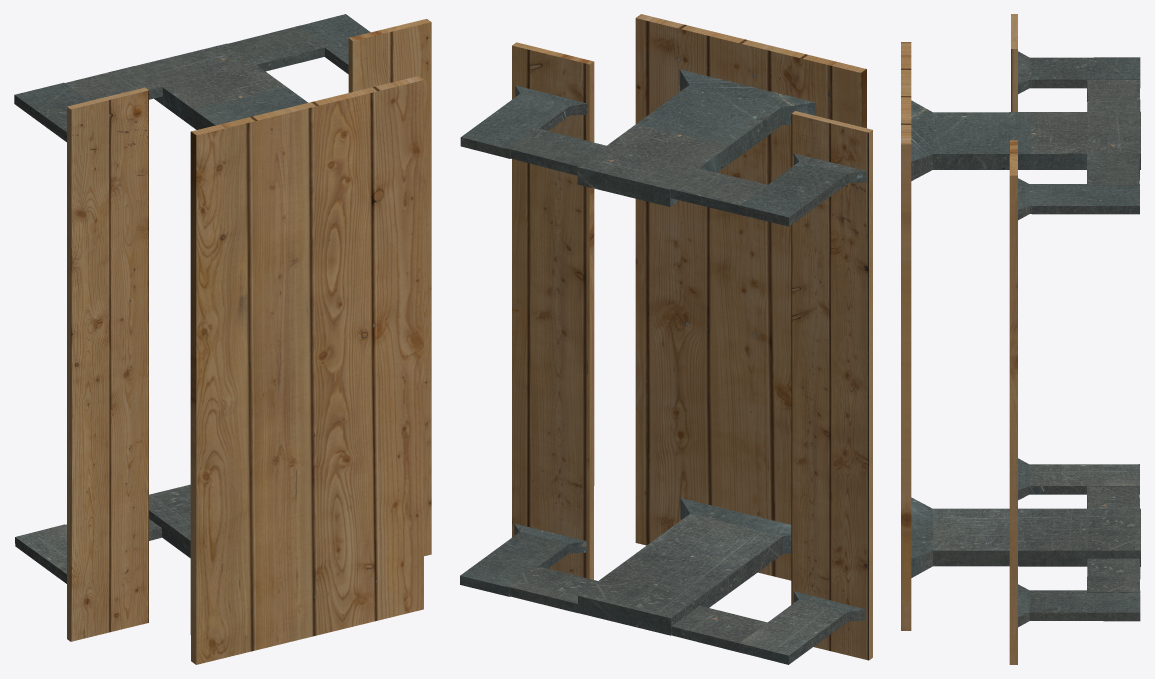
Rendered from Tyler_Tableblend.obj.
3 renders of one model, left to right at view 1: azimuth 30°, elevation 25°; view 2: azimuth 150°, elevation 25°; view 3: azimuth 270°, elevation 25°, orthographic. The views are drawn at different scales.
Parts seen in each view (by area): view 1: Cube.001_Cube.002, Cube.003_Cube.004; view 2: Cube.001_Cube.002, Cube.003_Cube.004; view 3: Cube.003_Cube.004, Cube.001_Cube.002.
Boxes of the visible parts, x1,y1,x2,y2 form: Cube.001_Cube.002: [67, 19, 431, 664]; Cube.003_Cube.004: [14, 14, 370, 583]; Cube.001_Cube.002: [512, 14, 872, 660]; Cube.003_Cube.004: [460, 69, 866, 664]; Cube.003_Cube.004: [911, 51, 1140, 627]; Cube.001_Cube.002: [901, 14, 1017, 664].
Bounding box in the file's own units: 368 × 521 × 231.
